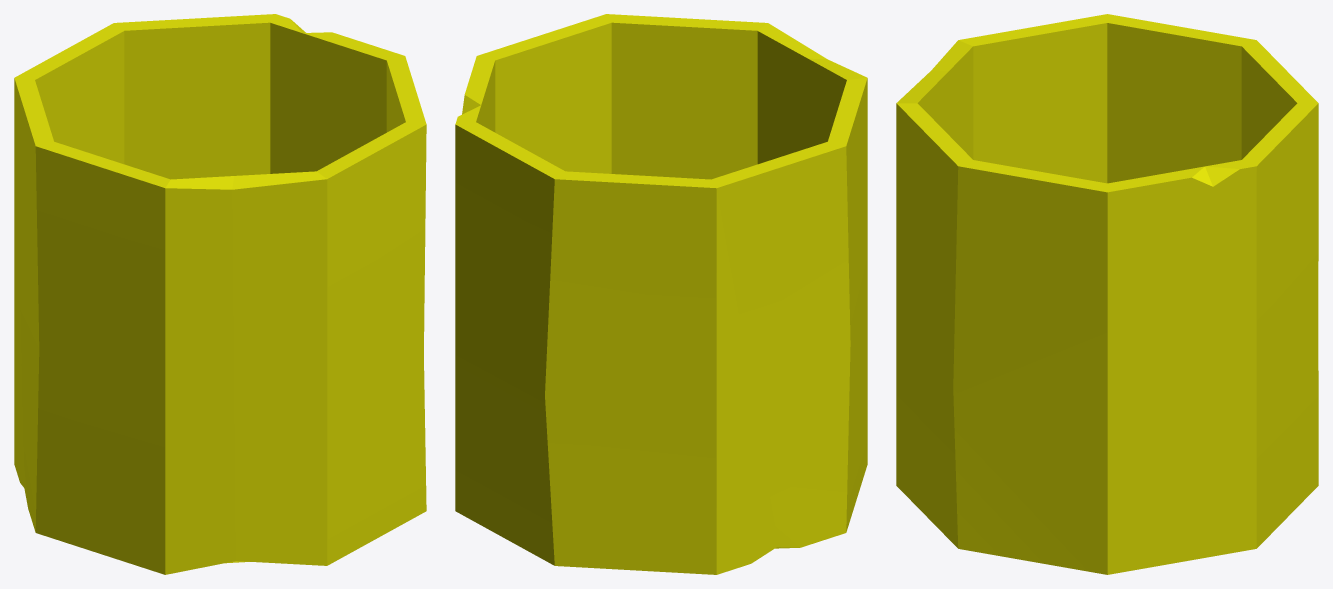
File: SM_PolygonPrototype_Primitive_Tube_01P.glb
The picture shows the model from 3 angles, left to right: view 1: azimuth 30°, elevation 25°; view 2: azimuth 150°, elevation 25°; view 3: azimuth 270°, elevation 25°; orthographic projection.
Visible parts, largest first — view 1: SM_PolygonPrototype_Primitive_Tube_01P; view 2: SM_PolygonPrototype_Primitive_Tube_01P; view 3: SM_PolygonPrototype_Primitive_Tube_01P.
Boxes of the visible parts, box(x1,y1,x2,y2) form: SM_PolygonPrototype_Primitive_Tube_01P: box(14, 14, 426, 574); SM_PolygonPrototype_Primitive_Tube_01P: box(455, 14, 867, 574); SM_PolygonPrototype_Primitive_Tube_01P: box(896, 14, 1318, 574).
Size of the model in its own units: 1 by 1 by 1.
Materials: 1 (1 with a texture image).
